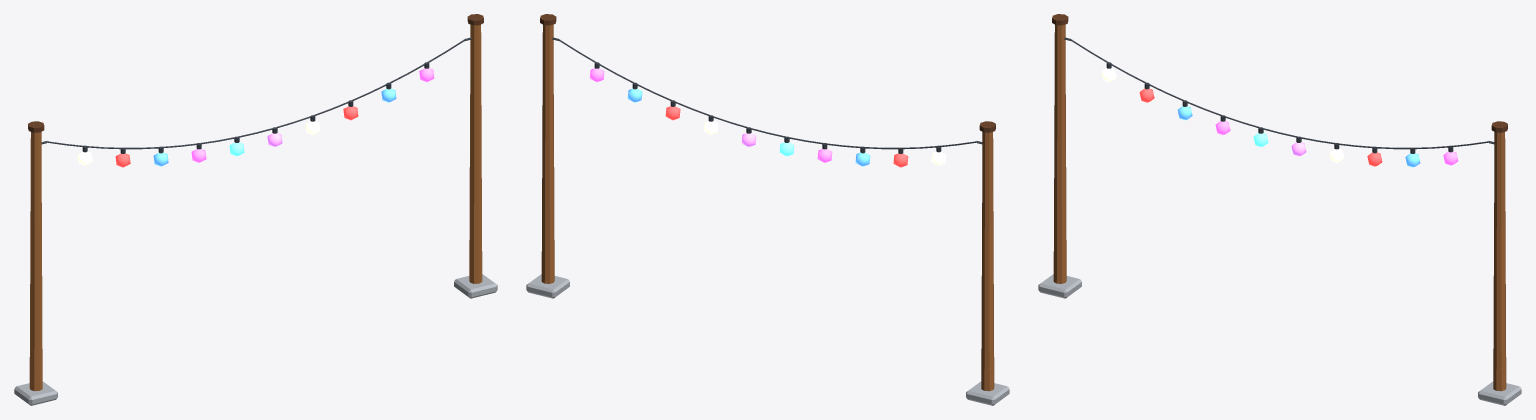
Rendered from varal_lampadas_coloridas.glb.
3 renders of one model, left to right at view 1: azimuth 30°, elevation 25°; view 2: azimuth 150°, elevation 25°; view 3: azimuth 330°, elevation 25°, orthographic.
Visible parts, largest first — view 1: varal_lampadas_coloridas, lampadas_a, lampadas_b; view 2: varal_lampadas_coloridas, lampadas_a, lampadas_b; view 3: varal_lampadas_coloridas, lampadas_a, lampadas_b.
Part boxes in pixels (bbox=[...]): varal_lampadas_coloridas: bbox=[14, 14, 497, 405]; lampadas_a: bbox=[77, 82, 396, 166]; lampadas_b: bbox=[115, 62, 434, 167]; varal_lampadas_coloridas: bbox=[526, 14, 1009, 405]; lampadas_a: bbox=[627, 82, 946, 166]; lampadas_b: bbox=[589, 62, 908, 167]; varal_lampadas_coloridas: bbox=[1038, 14, 1521, 405]; lampadas_a: bbox=[1101, 62, 1420, 167]; lampadas_b: bbox=[1139, 82, 1458, 166].
Size of the model in its own units: 6.4 by 3.56 by 0.4.
Materials: 7 (1 with a texture image).
